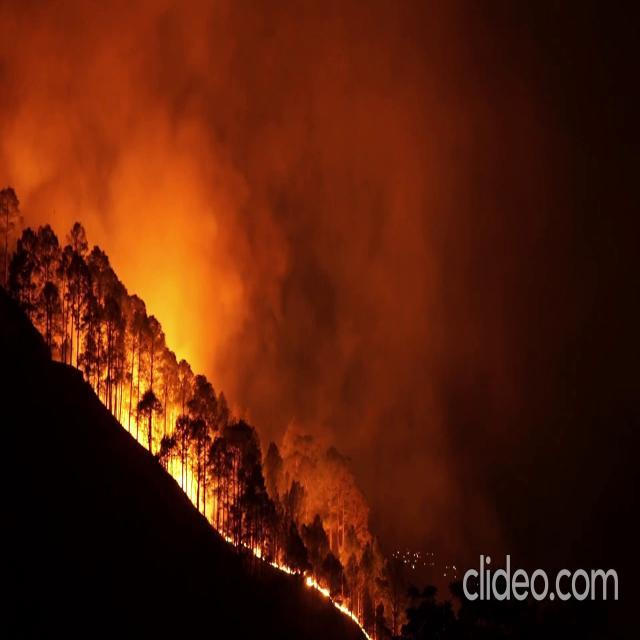Fire: (102, 348, 147, 456), (171, 442, 217, 532), (302, 568, 360, 631)
Smoke: (1, 1, 563, 511)
